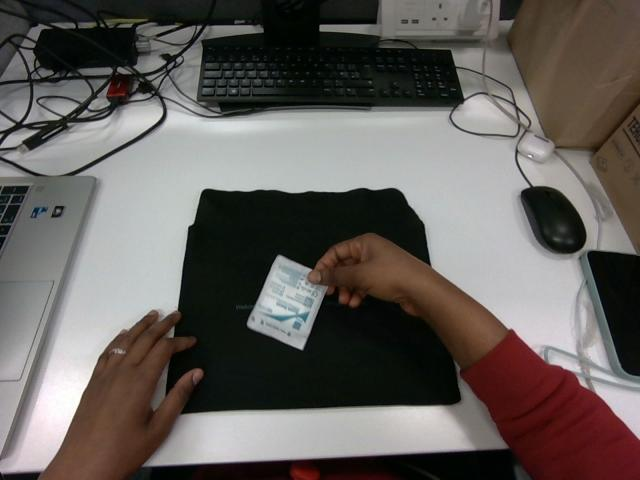gauze: (247, 255, 326, 349)
